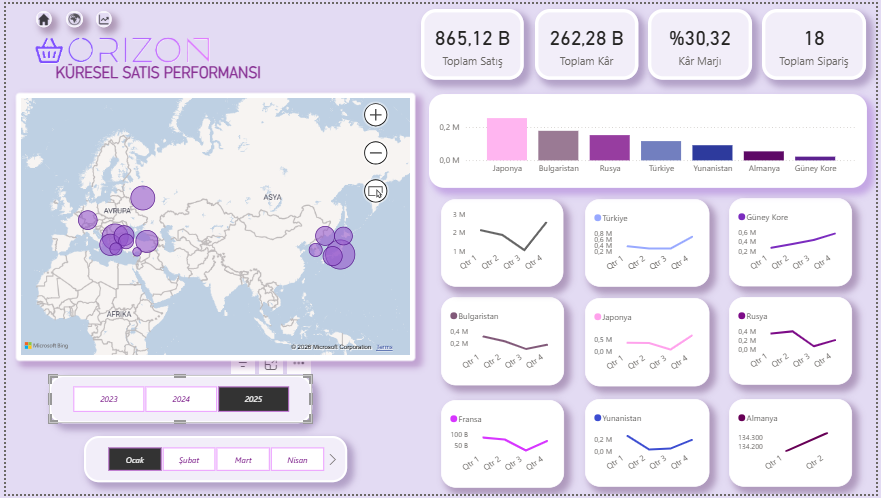

Layout of this report page (visuals, bound fields, positions):
{"tool":"powerbi","page":{"name":"Sayfa2","canvas":[1280,720],"ordinal":1},"visuals":[{"type":"slicer","fields":{"Values":["Takvim.Yıl"]},"box":[63.2,545.6,386.8,70.6],"z":0},{"type":"map","fields":{"Category":["public musteriler.Şehir"],"Size":["Tablo.Toplam Satış"]},"box":[14.3,131.4,587.1,394.3],"z":1000},{"type":"slicer","fields":{"Values":["Takvim.Ay"]},"box":[114.7,635.3,386.8,67.6],"z":2000},{"type":"lineChart","fields":{"Y":["Tablo.Yıl Genel Toplam"],"Category":["Takvim.Date.Varyasyon.Tarih Hiyerarşisi.Çeyrek"],"Series":["public musteriler.Ülke"]},"box":[852,286.3,183.1,129.4],"z":3000},{"type":"lineChart","fields":{"Y":["Tablo.Yıl Genel Toplam"],"Category":["Takvim.Date.Varyasyon.Tarih Hiyerarşisi.Çeyrek"],"Series":["public musteriler.Ülke"]},"box":[1063.5,285.7,181,130.2],"z":4000},{"type":"lineChart","fields":{"Y":["Tablo.Yıl Genel Toplam"],"Category":["Takvim.Date.Varyasyon.Tarih Hiyerarşisi.Çeyrek"],"Series":["public musteriler.Ülke"]},"box":[1062.9,431.4,181.4,128.6],"z":5000},{"type":"lineChart","fields":{"Y":["Tablo.Yıl Genel Toplam"],"Category":["Takvim.Date.Varyasyon.Tarih Hiyerarşisi.Çeyrek"],"Series":["public musteriler.Ülke"]},"box":[1062.9,581.4,181.4,128.6],"z":6000},{"type":"lineChart","fields":{"Y":["Tablo.Yıl Genel Toplam"],"Category":["Takvim.Date.Varyasyon.Tarih Hiyerarşisi.Çeyrek"],"Series":["public musteriler.Ülke"]},"box":[850.8,431.7,182.5,130.2],"z":7000},{"type":"lineChart","fields":{"Y":["Tablo.Yıl Genel Toplam"],"Category":["Takvim.Date.Varyasyon.Tarih Hiyerarşisi.Çeyrek"],"Series":["public musteriler.Ülke"]},"box":[851.4,581.4,182.9,128.6],"z":8000},{"type":"lineChart","fields":{"Y":["Tablo.Yıl Genel Toplam"],"Category":["Takvim.Date.Varyasyon.Tarih Hiyerarşisi.Çeyrek"],"Series":["public musteriler.Ülke"]},"box":[640,431.4,181.4,130],"z":9000},{"type":"lineChart","fields":{"Y":["Tablo.Yıl Genel Toplam"],"Category":["Takvim.Date.Varyasyon.Tarih Hiyerarşisi.Çeyrek"],"Series":["public musteriler.Ülke"]},"box":[640,582.9,181.4,128.6],"z":10000},{"type":"lineChart","fields":{"Y":["Tablo.Yıl Genel Toplam"],"Category":["Takvim.Date.Varyasyon.Tarih Hiyerarşisi.Çeyrek"]},"box":[640,286.3,180.3,129.4],"z":11000},{"type":"columnChart","fields":{"Y":["Tablo.Toplam Satış"],"Category":["public musteriler.Ülke"]},"box":[622.1,132.1,644.1,137.6],"z":12000},{"type":"image","box":[25.5,21.8,293.6,89.1],"z":16001},{"type":"textbox","box":[67.3,81.8,361.8,44.5],"z":16002},{"type":"image","box":[87.8,10.4,24.8,24.3],"z":16003},{"type":"image","box":[44.3,10.4,23,24.3],"z":16004},{"type":"image","box":[133,10.4,23,24.3],"z":16005},{"type":"card","fields":{"Values":["Tablo.Toplam Satış"]},"box":[610.8,6.8,151.4,104.1],"z":16006},{"type":"card","fields":{"Values":["Tablo.Toplam Kâr"]},"box":[778.4,6.9,151.7,104.3],"z":16007},{"type":"card","fields":{"Values":["Tablo.Kâr Marjı"]},"box":[944,6.9,152.6,104.3],"z":16008},{"type":"card","fields":{"Values":["Tablo.Toplam Sipariş"]},"box":[1112.2,6.8,152.7,104.1],"z":16009}]}

Visuals, with their boxes in screenshot pixels (x1, y1, x2, y2), scaled from the page's 1280x720 canvas onto the 881x498 screenshot:
slicer - Takvim.Yıl: 43 377 310 426
map - public musteriler.Şehir x Tablo.Toplam Satış: 10 91 414 364
slicer - Takvim.Ay: 79 439 345 486
lineChart - Tablo.Yıl Genel Toplam x Takvim.Date.Varyasyon.Tarih Hiyerarşisi.Çeyrek: 586 198 712 288
lineChart - Tablo.Yıl Genel Toplam x Takvim.Date.Varyasyon.Tarih Hiyerarşisi.Çeyrek: 732 198 857 288
lineChart - Tablo.Yıl Genel Toplam x Takvim.Date.Varyasyon.Tarih Hiyerarşisi.Çeyrek: 732 298 856 387
lineChart - Tablo.Yıl Genel Toplam x Takvim.Date.Varyasyon.Tarih Hiyerarşisi.Çeyrek: 732 402 856 491
lineChart - Tablo.Yıl Genel Toplam x Takvim.Date.Varyasyon.Tarih Hiyerarşisi.Çeyrek: 586 299 711 389
lineChart - Tablo.Yıl Genel Toplam x Takvim.Date.Varyasyon.Tarih Hiyerarşisi.Çeyrek: 586 402 712 491
lineChart - Tablo.Yıl Genel Toplam x Takvim.Date.Varyasyon.Tarih Hiyerarşisi.Çeyrek: 440 298 565 388
lineChart - Tablo.Yıl Genel Toplam x Takvim.Date.Varyasyon.Tarih Hiyerarşisi.Çeyrek: 440 403 565 492
lineChart - Tablo.Yıl Genel Toplam x Takvim.Date.Varyasyon.Tarih Hiyerarşisi.Çeyrek: 440 198 565 288
columnChart - Tablo.Toplam Satış x public musteriler.Ülke: 428 91 872 187
image: 18 15 220 77
textbox: 46 57 295 87
image: 60 7 78 24
image: 30 7 46 24
image: 92 7 107 24
card - Tablo.Toplam Satış: 420 5 525 77
card - Tablo.Toplam Kâr: 536 5 640 77
card - Tablo.Kâr Marjı: 650 5 755 77
card - Tablo.Toplam Sipariş: 766 5 871 77
